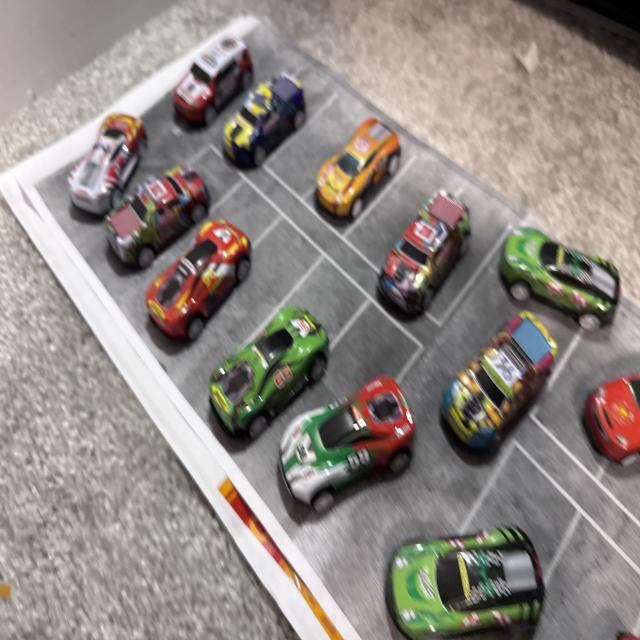Car: (134, 188, 266, 397), (212, 273, 340, 480), (433, 315, 567, 448), (393, 538, 554, 640), (288, 394, 464, 486), (111, 147, 226, 275), (498, 205, 612, 308), (375, 185, 467, 306), (314, 110, 396, 241), (575, 343, 640, 504), (209, 63, 308, 164), (167, 20, 240, 117), (83, 114, 140, 197)
